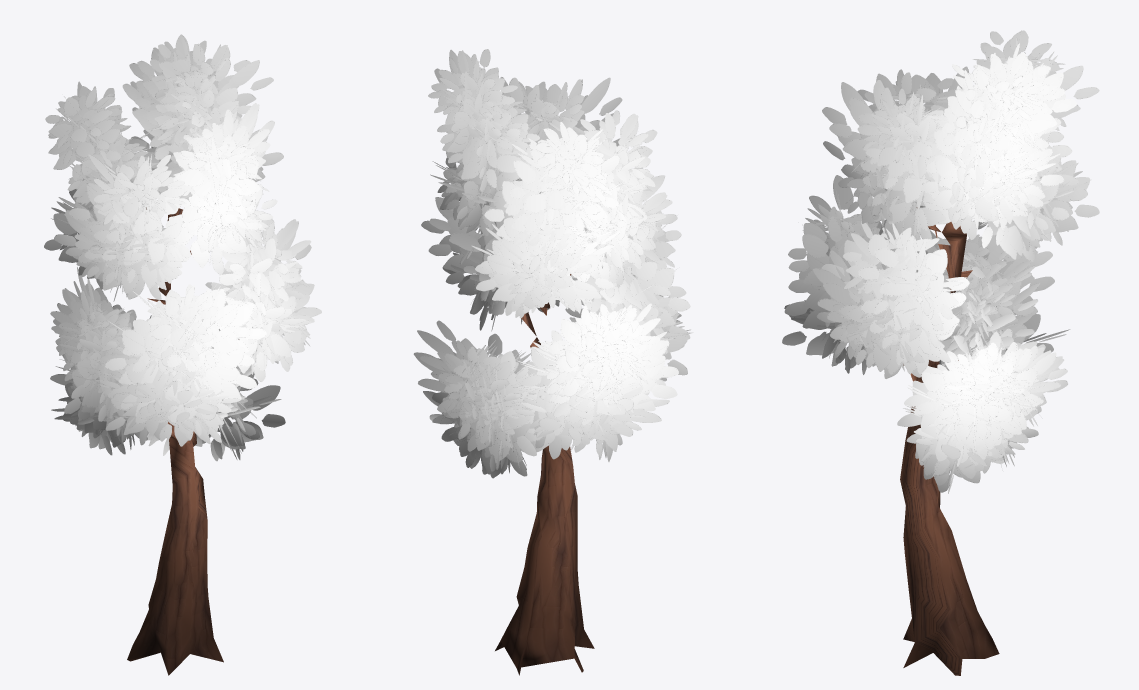
The model's file is CommonTree_3.gltf.
3 views of the same model, side by side, from view 1: azimuth 30°, elevation 25°; view 2: azimuth 150°, elevation 25°; view 3: azimuth 270°, elevation 25° (orthographic). The views are drawn at different scales.
Visible parts, largest first — view 1: CommonTree_3; view 2: CommonTree_3; view 3: CommonTree_3.
Part boxes in pixels (bbox=[...]): CommonTree_3: bbox=[44, 34, 321, 675]; CommonTree_3: bbox=[413, 49, 693, 675]; CommonTree_3: bbox=[782, 30, 1099, 675].
Bounding box in the file's own units: 4.83 × 9.74 × 4.99.
Materials: 2 (2 with a texture image).
